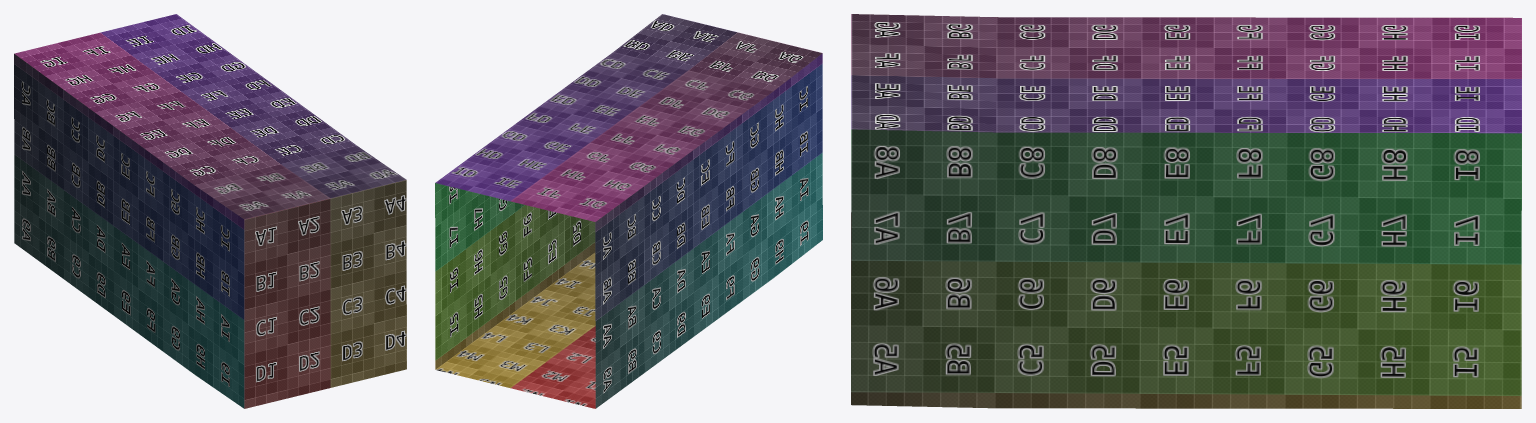
3 renders of one model, left to right at view 1: azimuth 30°, elevation 25°; view 2: azimuth 150°, elevation 25°; view 3: azimuth 270°, elevation 25°, orthographic. The views are drawn at different scales.
Parts seen in each view (by area): view 1: Final; view 2: Final; view 3: Final.
Boxes of the visible parts, bbox=[...] form: Final: bbox=[14, 14, 406, 408]; Final: bbox=[435, 14, 822, 408]; Final: bbox=[851, 14, 1521, 408].
Bounding box in the file's own units: 3.17 × 3.59 × 7.8.
